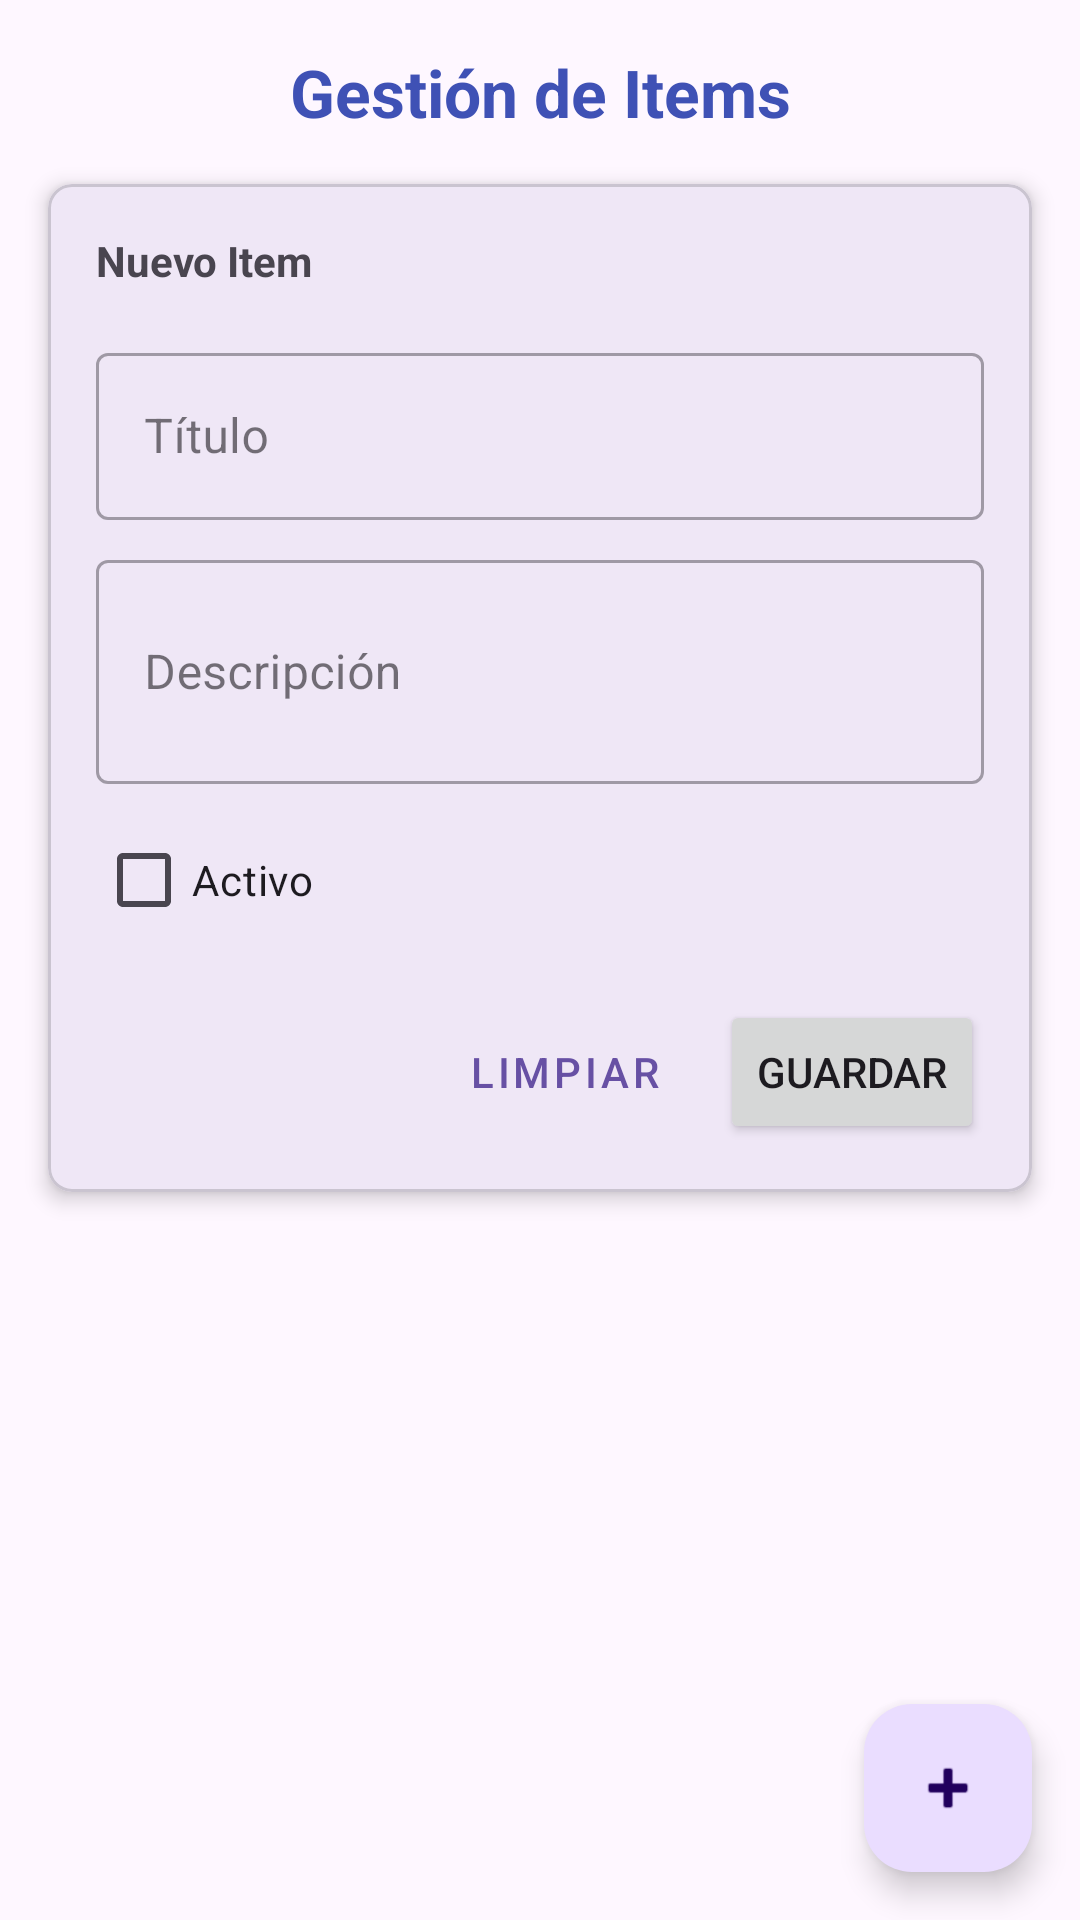

Screen size 1080×1920. Icon name, then its center in pixels as (x=x, y=y):
Agregar nuevo item: (x=948, y=1788)
